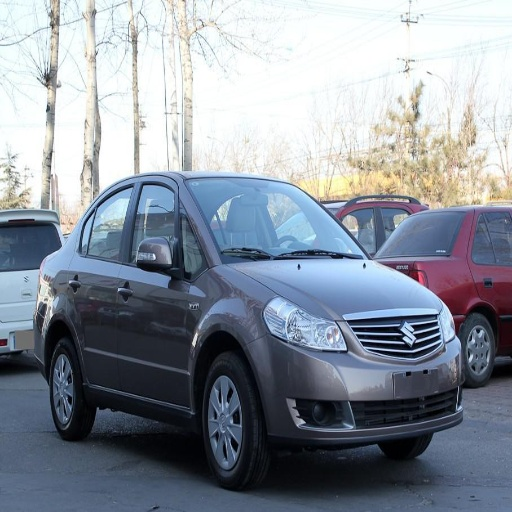front_bumper: (250, 315, 464, 448)
front_right_door: (117, 180, 206, 404)
front_right_light: (264, 296, 347, 352)
